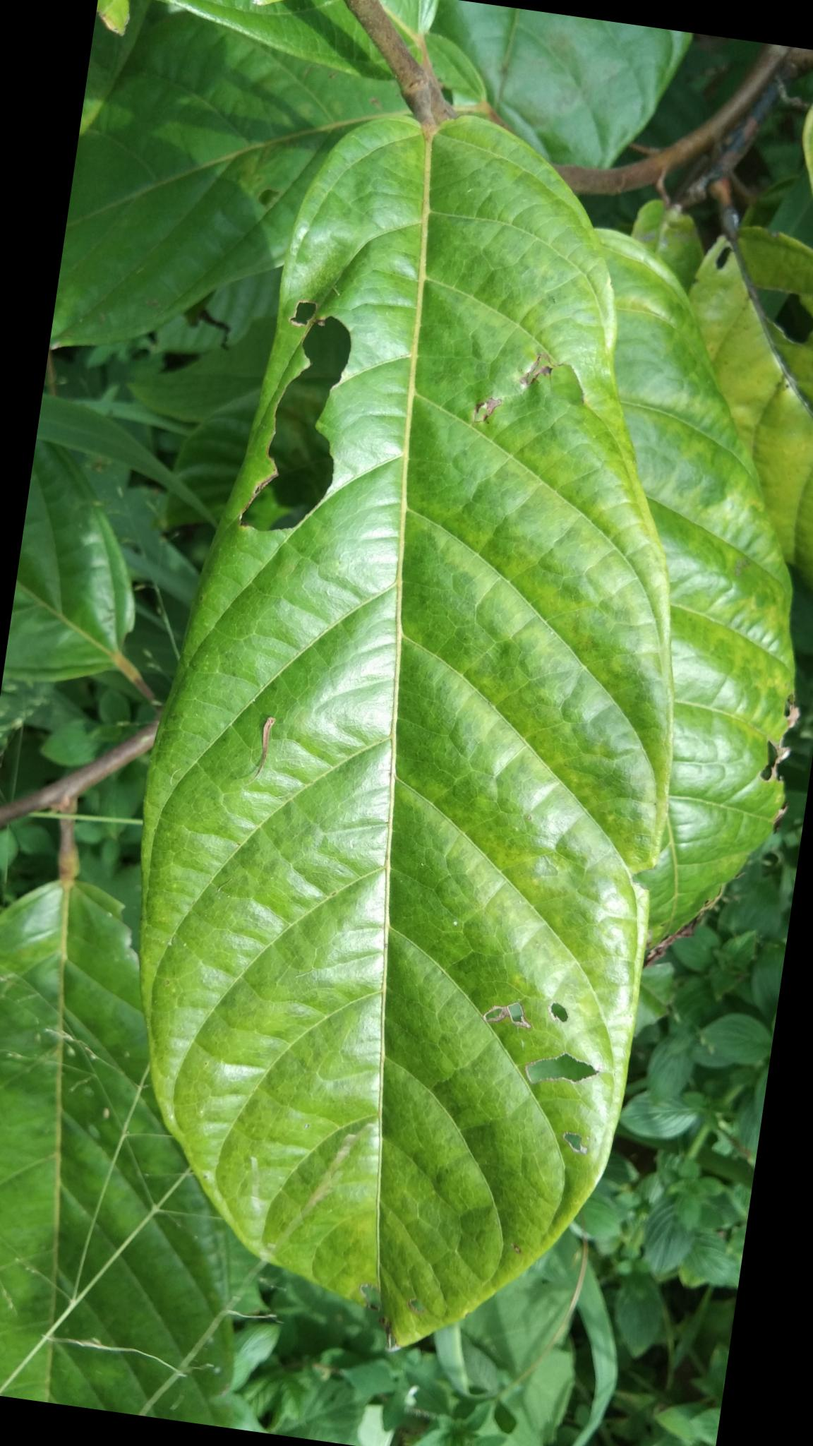Fosforo: (133, 122, 668, 1346)
